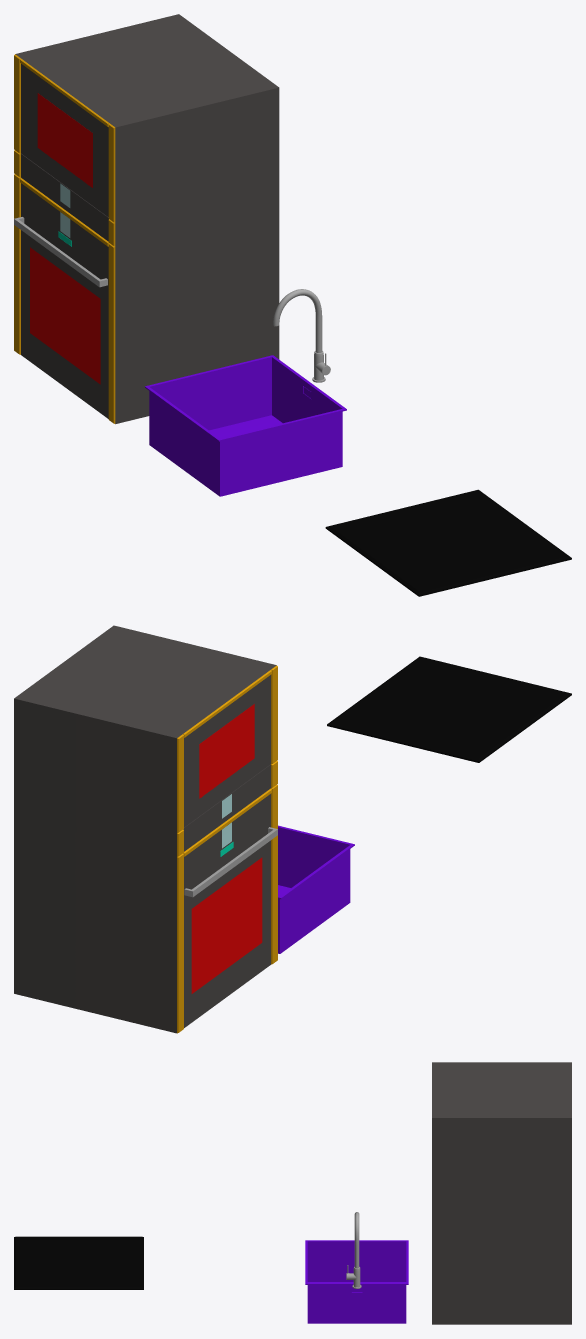
File: Appliances.fbx
3 views of the same model, one above another, from view 1: azimuth 30°, elevation 25°; view 2: azimuth 150°, elevation 25°; view 3: azimuth 270°, elevation 25° (orthographic). The views are drawn at different scales.
Visible parts, largest first — view 1: MicrowaveSides, OvenSides, Sink, Stove, OvenWindow, OvenDoor, MicroDoor, MicroWindow, OvenHandle3, ChromeKitchenMixer; view 2: MicrowaveSides, OvenSides, Stove, Sink, OvenWindow, OvenDoor, MicroDoor, MicroWindow, OvenHandle3; view 3: MicrowaveSides, OvenSides, Sink, Stove.
Boxes of the visible parts, left/top/right/bottom form: MicrowaveSides: left=14, top=14, right=279, bottom=246; OvenSides: left=14, top=174, right=279, bottom=424; Sink: left=145, top=355, right=346, bottom=496; Stove: left=325, top=489, right=571, bottom=596; OvenWindow: left=30, top=247, right=100, bottom=384; OvenDoor: left=21, top=212, right=108, bottom=418; MicroDoor: left=21, top=64, right=108, bottom=216; MicroWindow: left=37, top=93, right=92, bottom=187; OvenHandle3: left=14, top=217, right=107, bottom=287; ChromeKitchenMixer: left=273, top=289, right=322, bottom=352; MicrowaveSides: left=14, top=625, right=277, bottom=856; OvenSides: left=14, top=784, right=277, bottom=1033; Stove: left=327, top=656, right=571, bottom=762; Sink: left=278, top=825, right=354, bottom=953; OvenWindow: left=191, top=857, right=262, bottom=993; OvenDoor: left=184, top=822, right=270, bottom=1027; MicroDoor: left=184, top=675, right=270, bottom=827; MicroWindow: left=199, top=704, right=254, bottom=798; OvenHandle3: left=184, top=827, right=277, bottom=897; MicrowaveSides: left=432, top=1062, right=571, bottom=1200; OvenSides: left=432, top=1201, right=571, bottom=1324; Sink: left=305, top=1240, right=408, bottom=1323; Stove: left=14, top=1236, right=143, bottom=1289.
Bounding box in the file's own units: 60.52 × 105 × 243.
